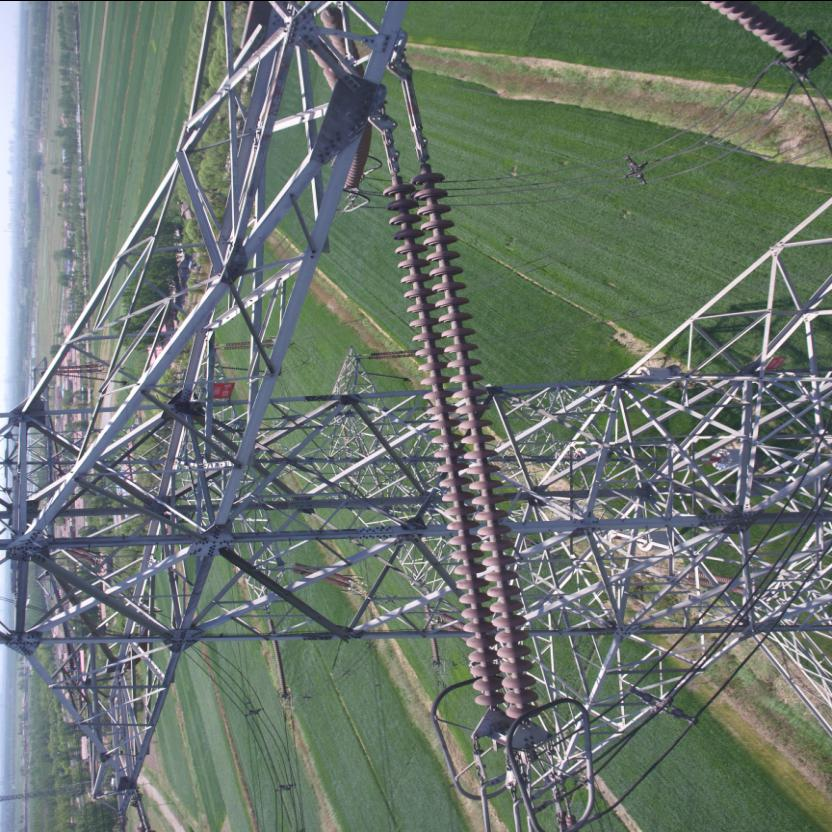insulator: (376, 140, 544, 728)
